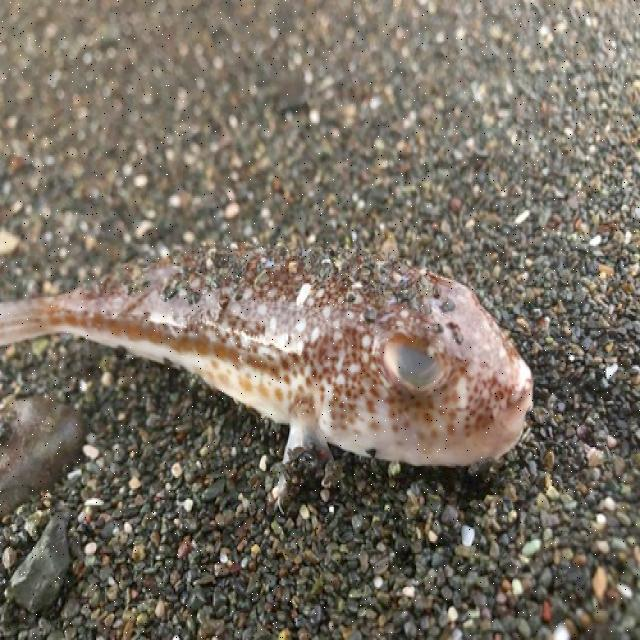Balik: (0, 248, 532, 465)
